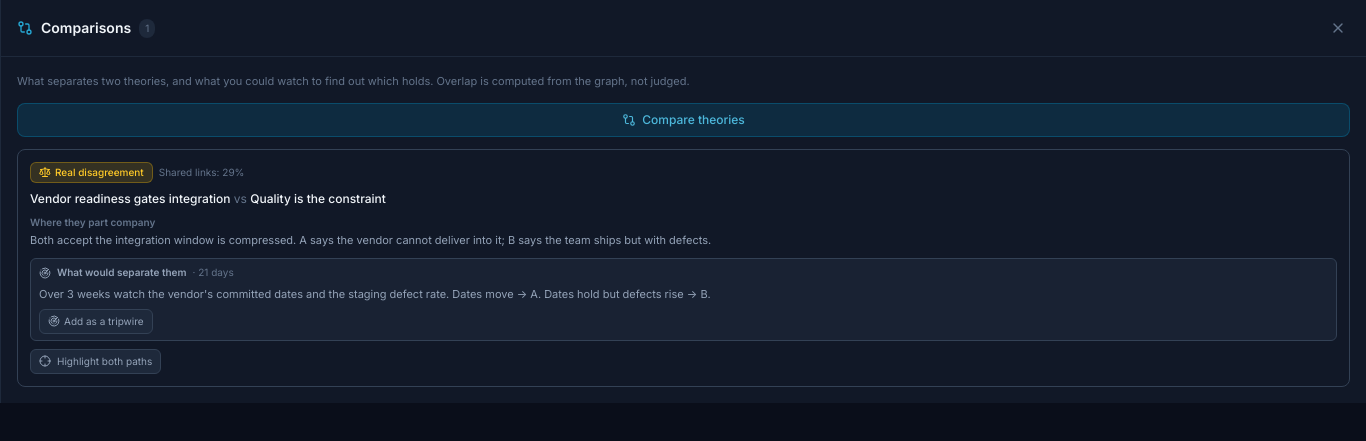
it: DebatePanel: promotion › asks for confirmation before creating dated commitments
Click the button "Add as a tripwire" at coordinates (96, 321), box [39,309,153,334]
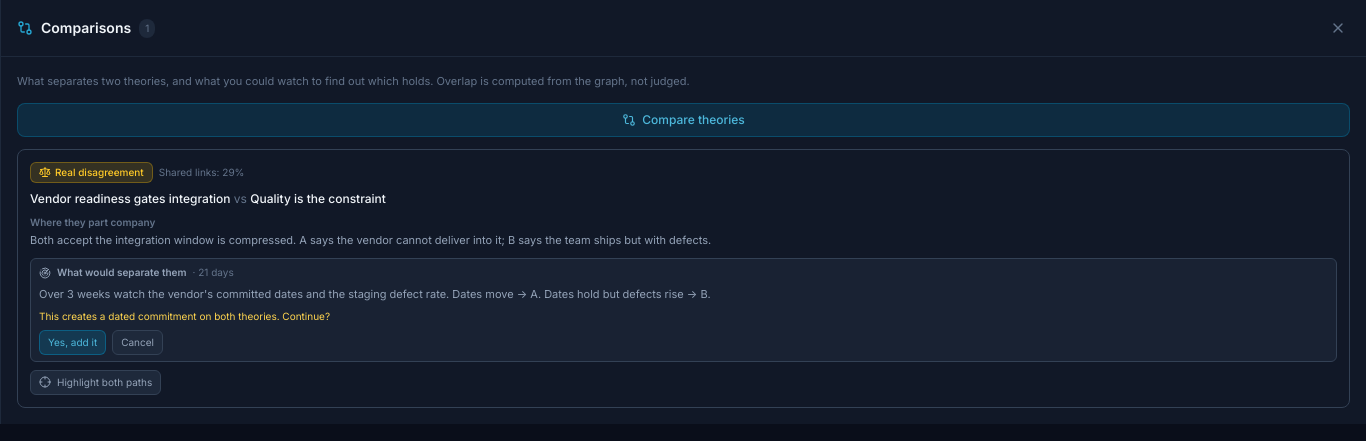
Check: the text "This creates a dated commitment on both theories. Continue?" is shown, box [39,310,330,322]
